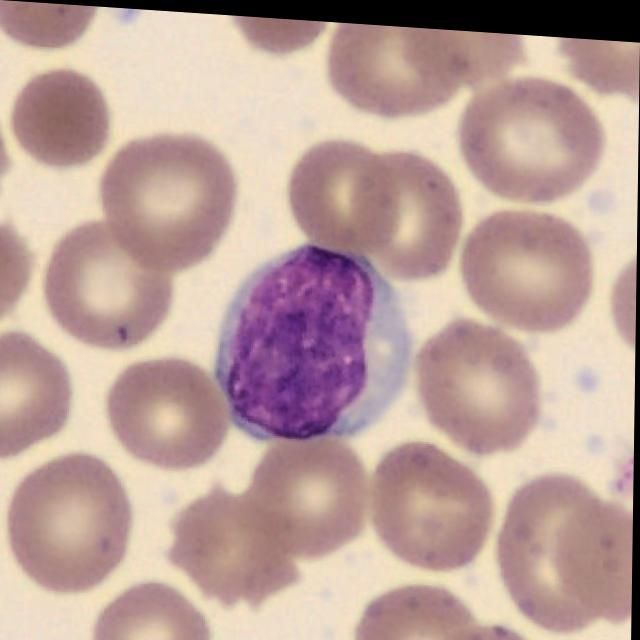Linfocito: (215, 241, 410, 439)
